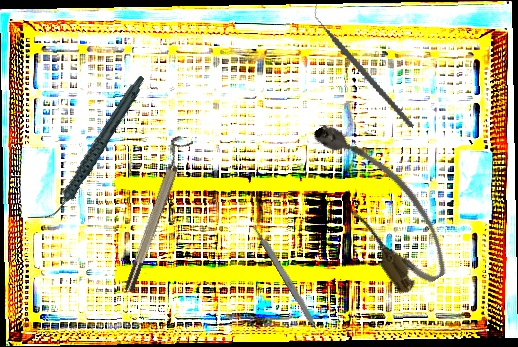Cannula: (301, 103, 461, 301)
Chopper: (289, 4, 440, 128)
Fixation Ring: (115, 133, 194, 294)
Handpiece: (18, 73, 172, 224)
Scalpel Handle: (251, 223, 321, 331)
